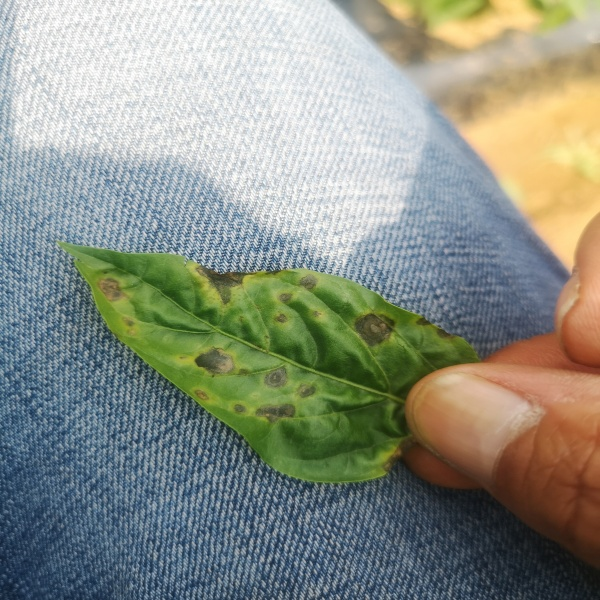Anthrax: (96, 255, 451, 489)
